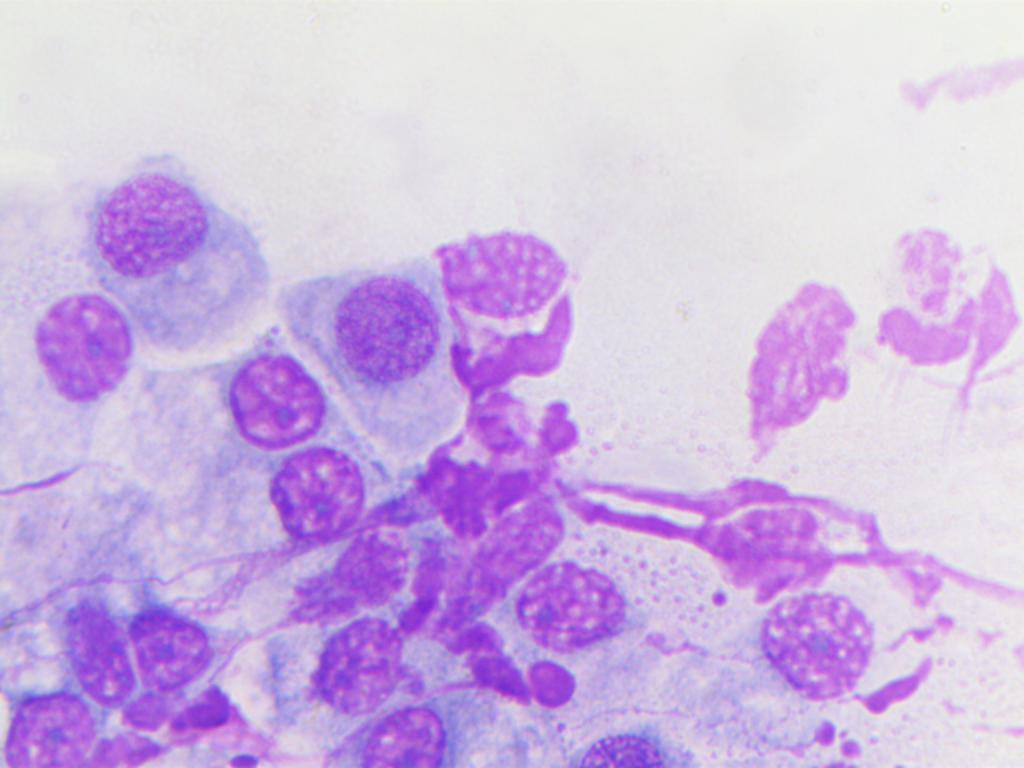epithelial: (79, 159, 219, 287), (756, 592, 879, 707), (327, 271, 442, 389), (429, 226, 568, 322), (21, 284, 130, 401), (506, 563, 650, 649), (313, 610, 412, 734), (54, 591, 142, 714), (219, 348, 331, 444), (262, 444, 360, 549), (0, 678, 100, 768), (121, 596, 212, 688)
